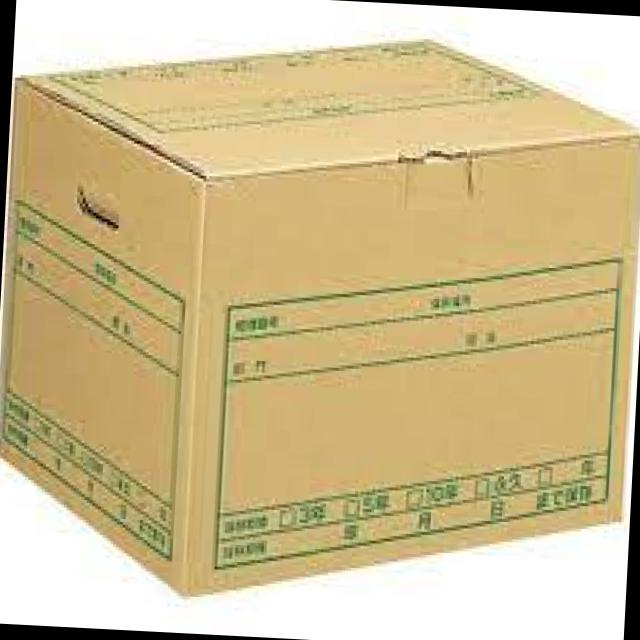box: (0, 39, 640, 600)
